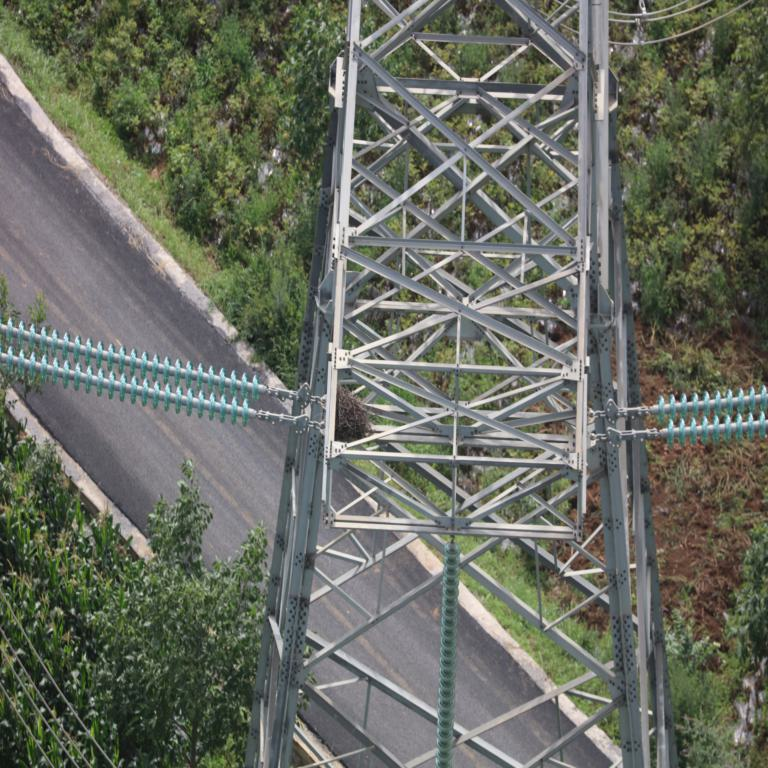nest: (334, 387, 365, 441)
